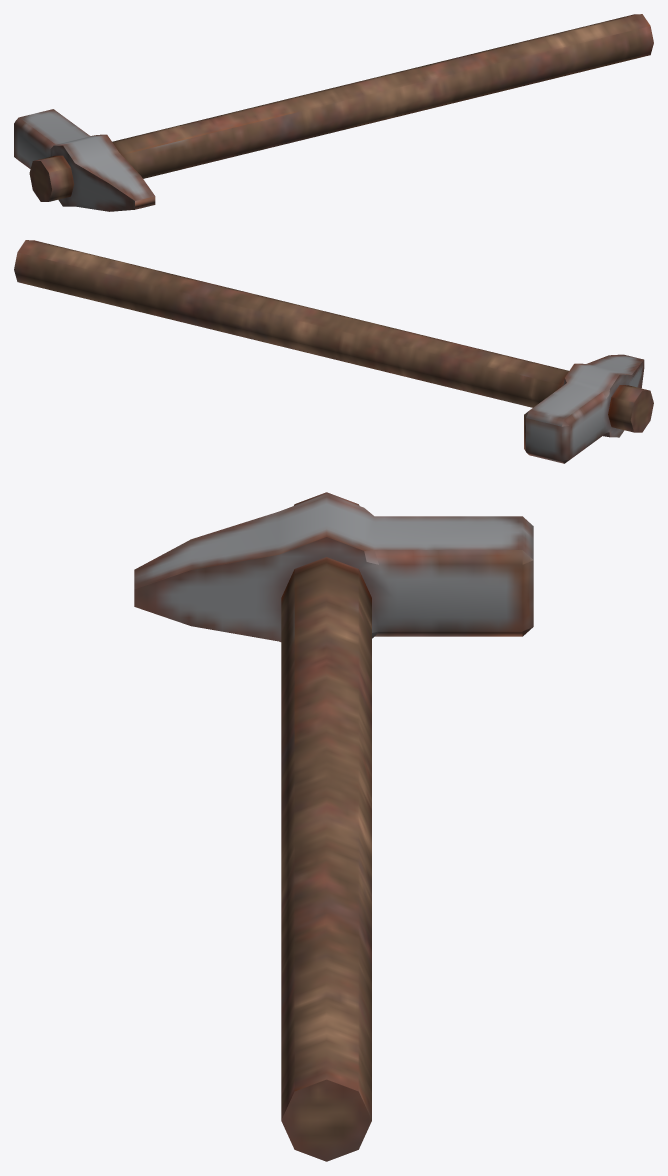
Rendered from hammer.fbx.
3 views of the same model, one above another, from view 1: azimuth 30°, elevation 25°; view 2: azimuth 150°, elevation 25°; view 3: azimuth 270°, elevation 25° (orthographic). The views are drawn at different scales.
Visible parts, largest first — view 1: hammer; view 2: hammer; view 3: hammer.
Boxes of the visible parts, left/top/right/bottom form: hammer: left=14, top=14, right=653, bottom=211; hammer: left=14, top=240, right=653, bottom=463; hammer: left=134, top=492, right=533, bottom=1161.
Size of the model in its own units: 68.65 by 6.68 by 19.73.
